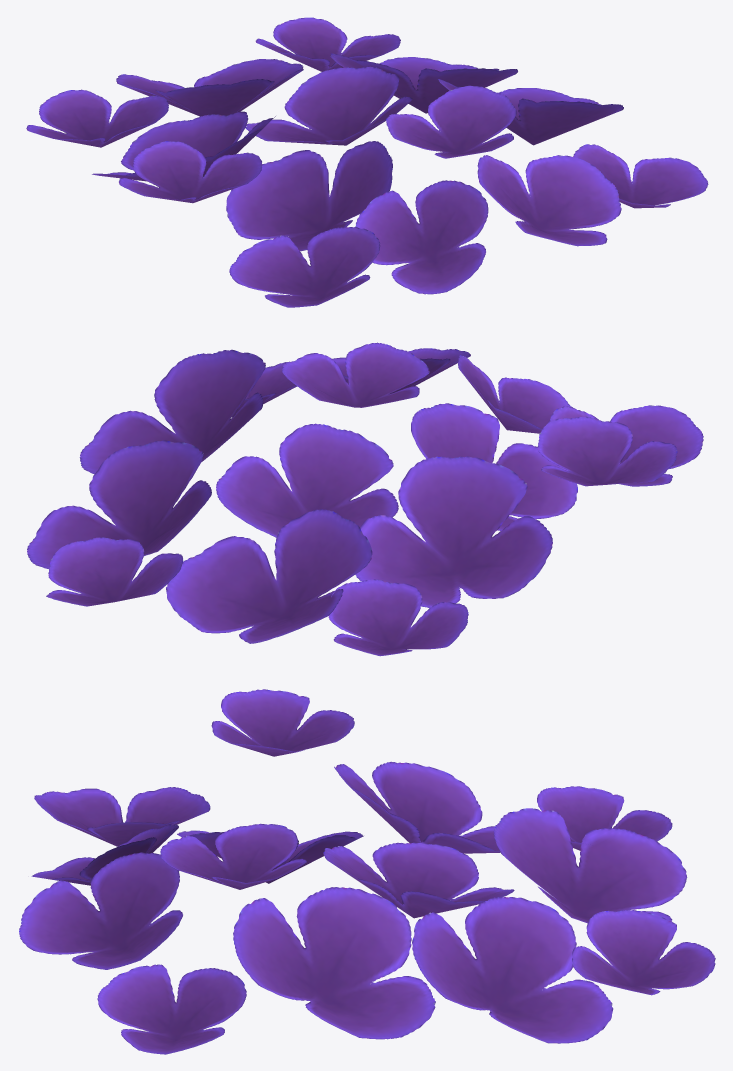
File: nature-plant-7-big.glb
3 views of the same model, one above another, from view 1: azimuth 30°, elevation 25°; view 2: azimuth 150°, elevation 25°; view 3: azimuth 270°, elevation 25° (orthographic). The views are drawn at different scales.
Parts seen in each view (by area): view 1: Plant_7_Big; view 2: Plant_7_Big; view 3: Plant_7_Big.
Boxes of the visible parts, <box> form: Plant_7_Big: <box>26,17,708,307</box>; Plant_7_Big: <box>27,342,703,656</box>; Plant_7_Big: <box>19,689,715,1054</box>.
Bounding box in the file's own units: 1.31 × 0.2534 × 1.36.
1 material, 1 textured.
